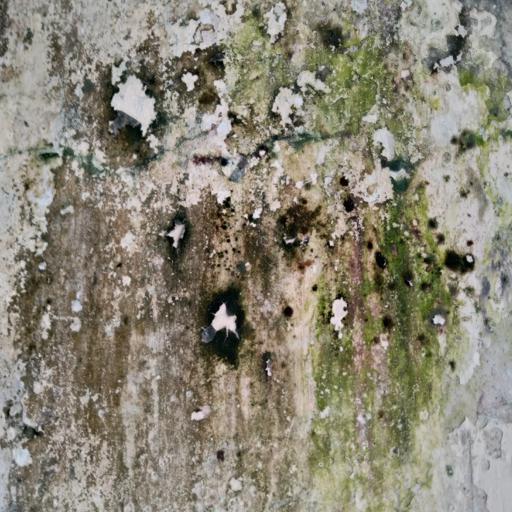algae: (30, 9, 458, 480)
